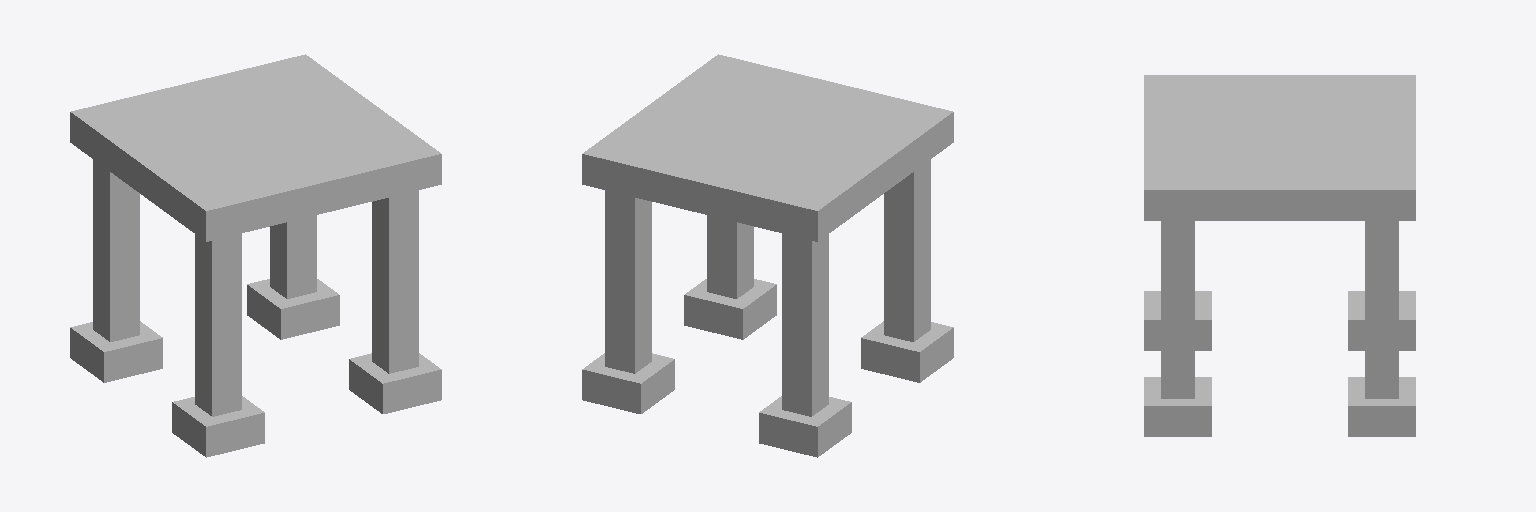
File: Cube-columns.obj
3 views of the same model, side by side, from view 1: azimuth 30°, elevation 25°; view 2: azimuth 150°, elevation 25°; view 3: azimuth 270°, elevation 25° (orthographic).
Parts seen in each view (by area): view 1: pCube9; view 2: pCube9; view 3: pCube9.
Boxes of the visible parts, x1=… form: pCube9: x1=70, y1=54, x2=441, y2=457; pCube9: x1=582, y1=54, x2=953, y2=457; pCube9: x1=1144, y1=75, x2=1415, y2=436.
Size of the model in its own units: 8 by 8 by 8.